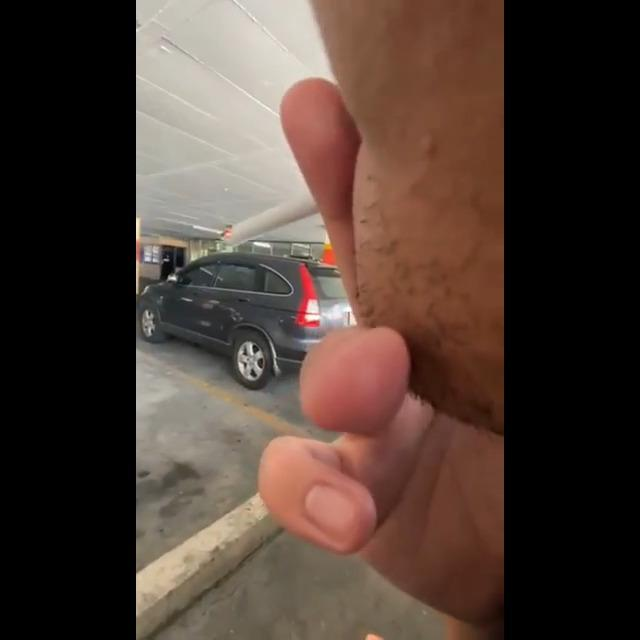rokok: (210, 192, 338, 252)
